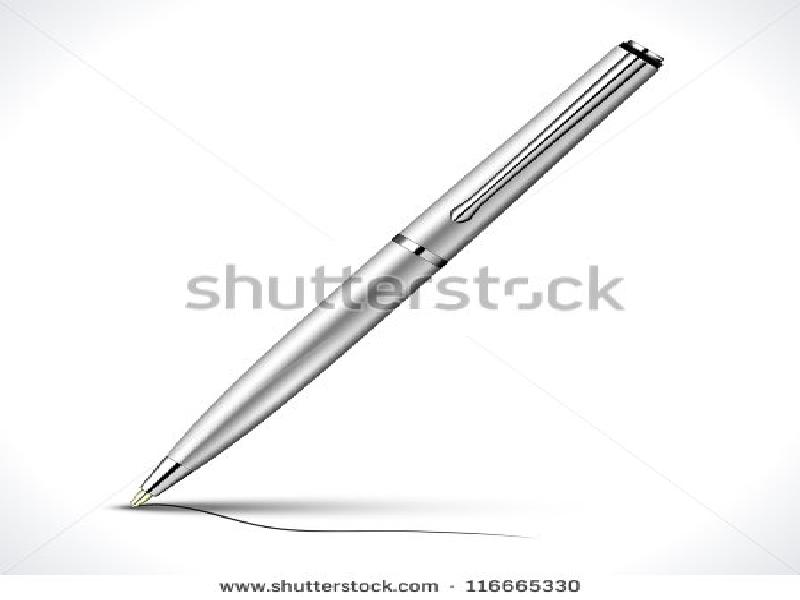pen: (122, 36, 670, 511)
